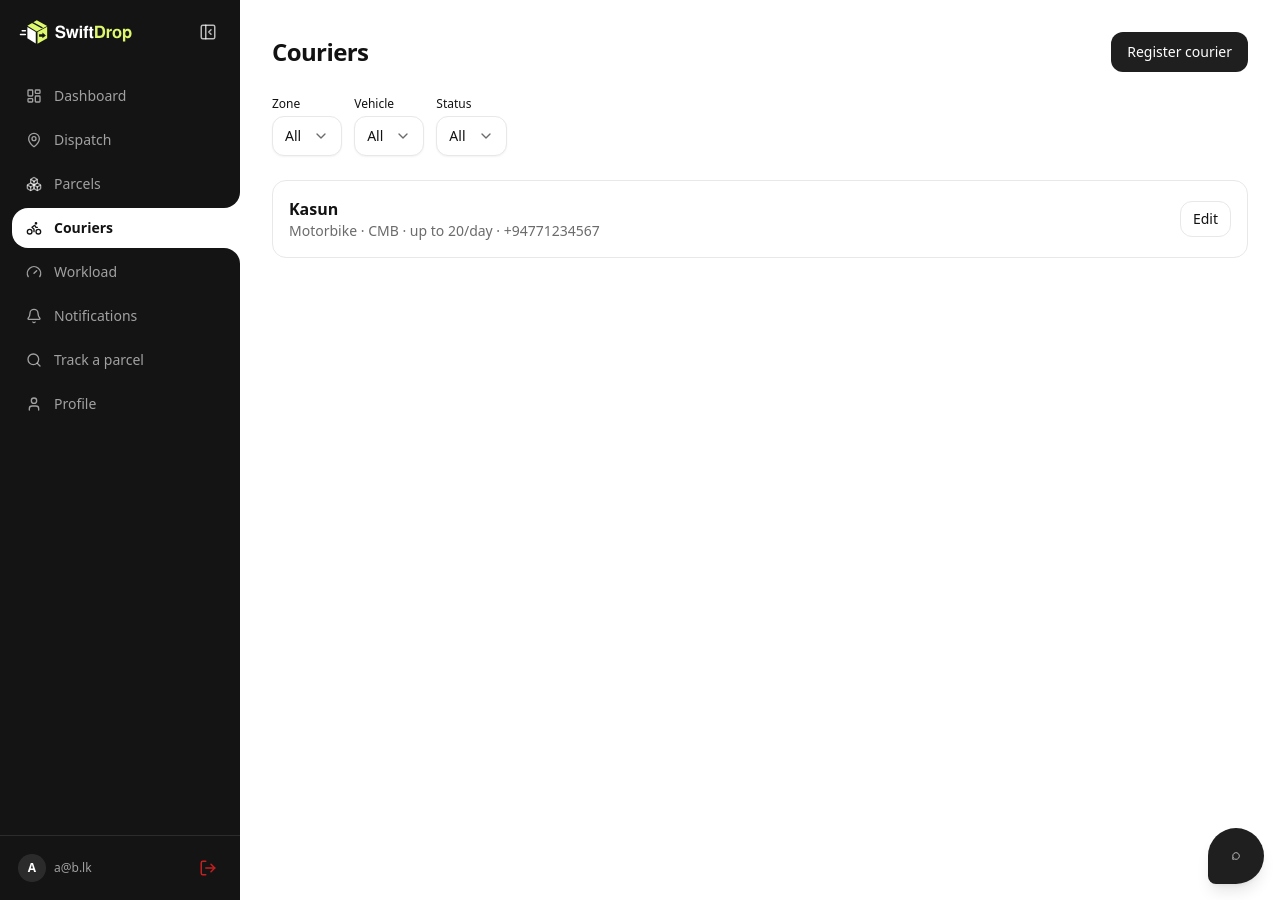
Test: couriers › shows the 409 detail (tracking numbers to reassign) when deactivating
This screenshot has width=1280, height=900.
Step 1. Click the button with aria-label "Edit Kasun" → [1205, 219], box top-left (1180, 201), bottom-right (1231, 237)
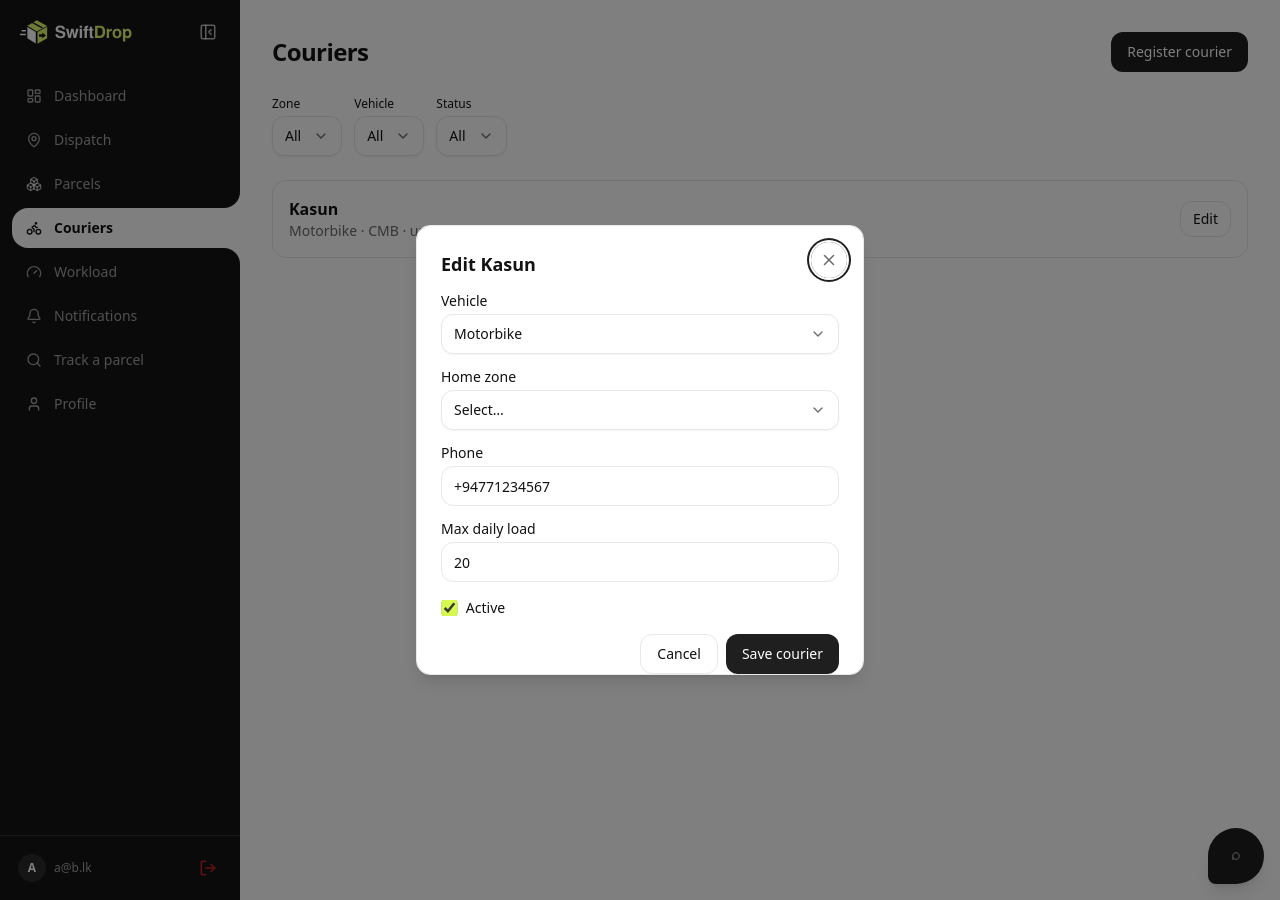
Step 2. Click the checkbox labelled "Active" → [449, 608], box top-left (441, 600), bottom-right (458, 616)
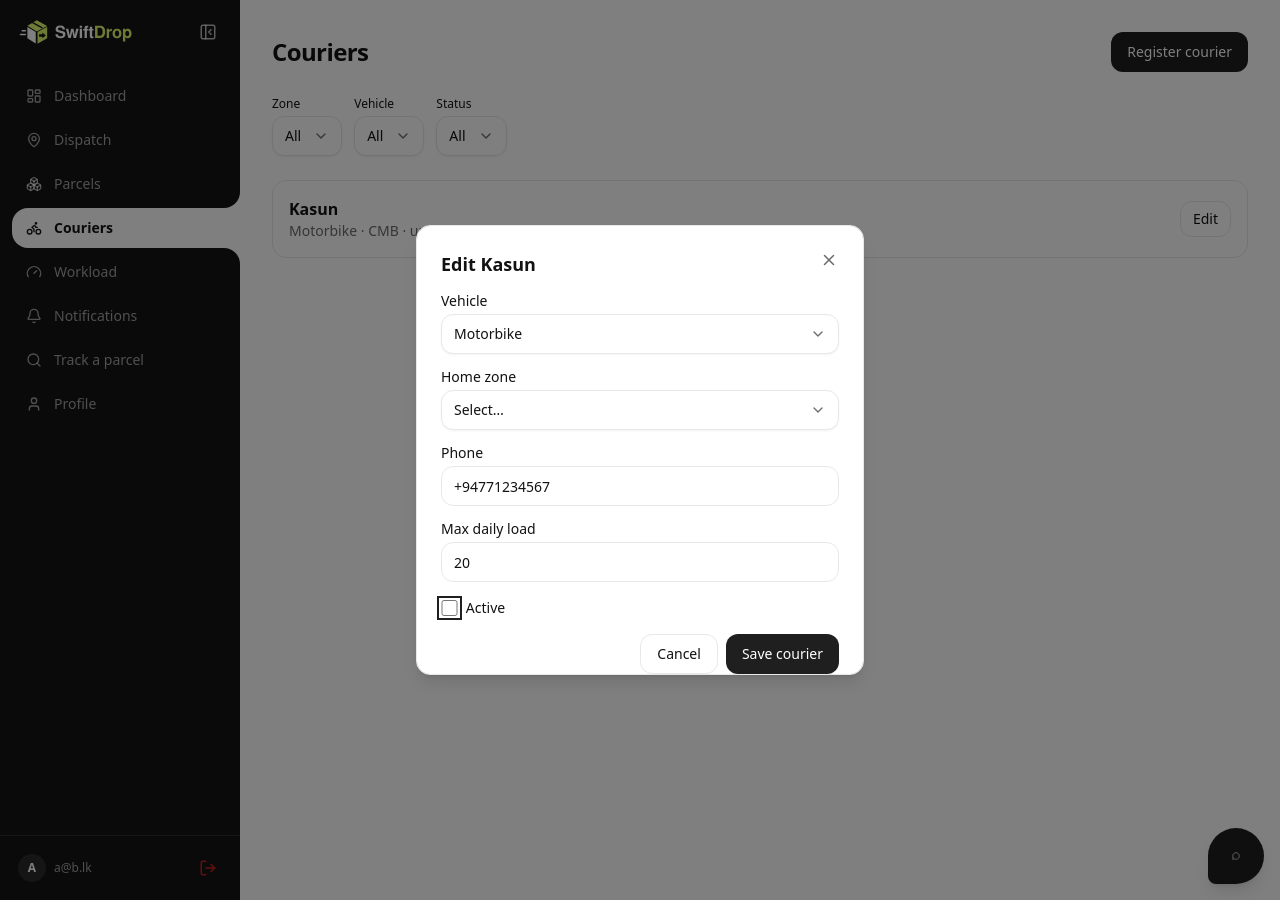
Step 3. Click the button "Save courier" → [782, 654], box top-left (726, 634), bottom-right (839, 674)
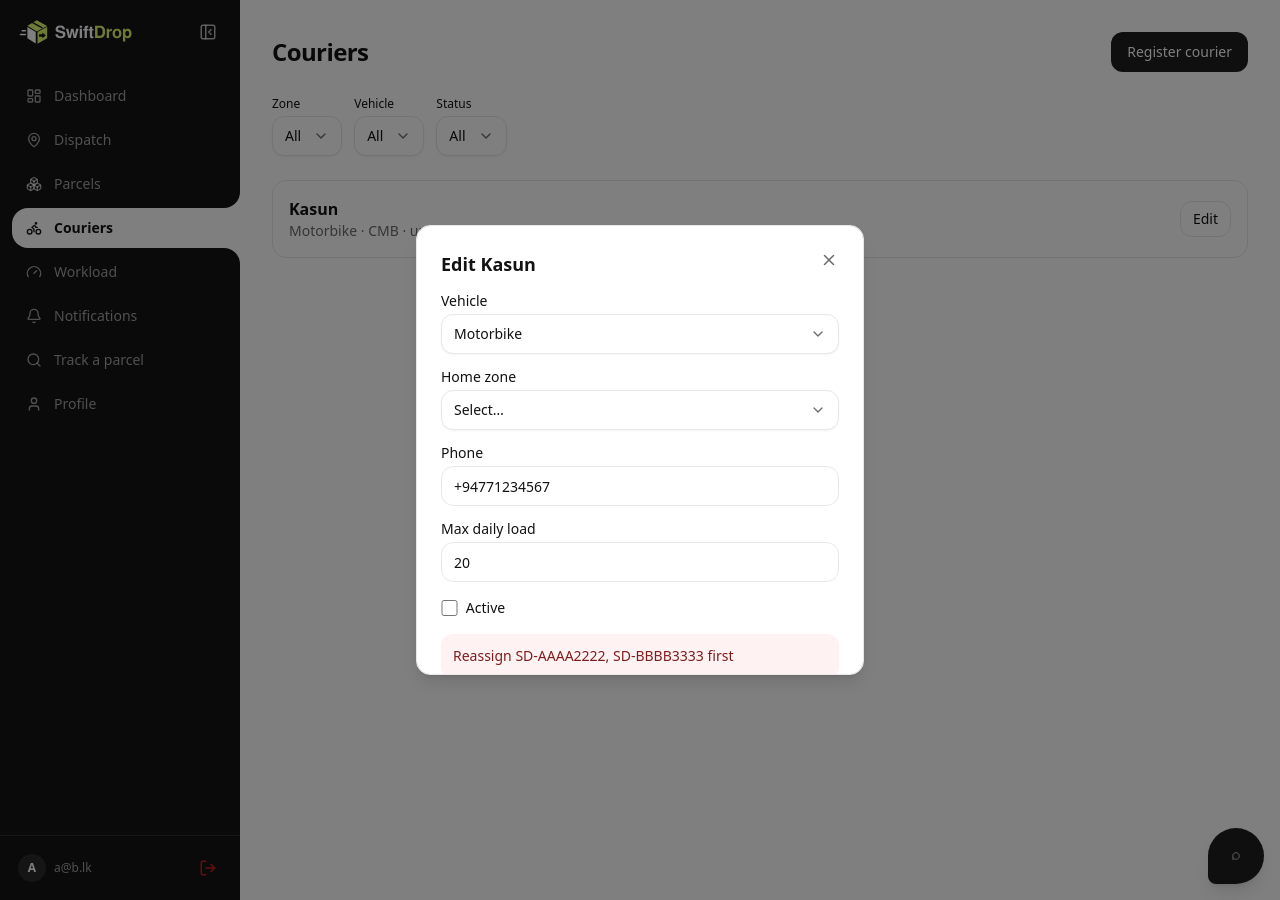
Now the message reads "Reassign SD-AAAA2222, SD-BBBB3333 first", box top-left (453, 646), bottom-right (734, 665)
